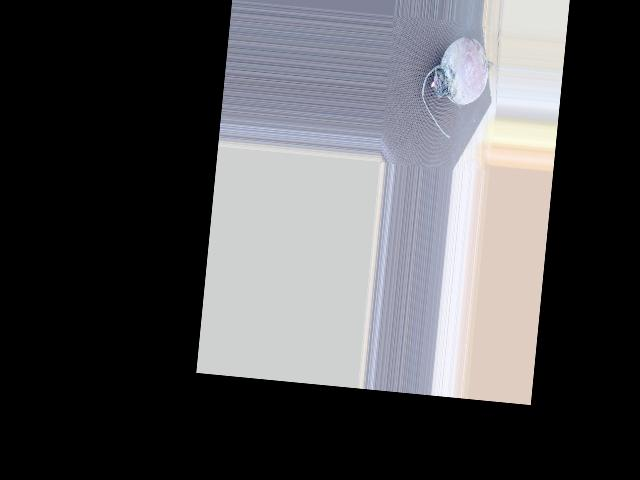beet: (417, 32, 502, 142)
